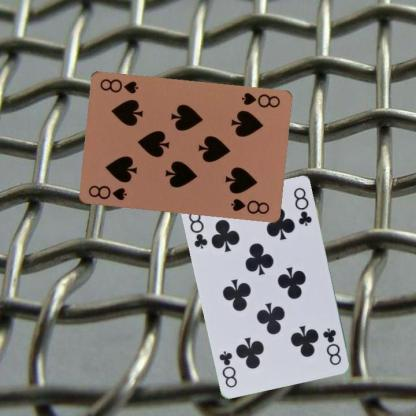8c: (186, 208, 210, 250), (321, 325, 343, 367)
8s: (238, 90, 282, 109), (86, 183, 127, 202)
